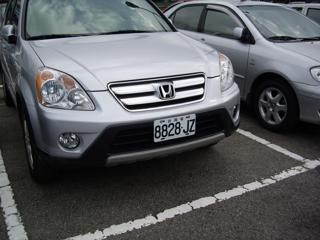plate: (150, 115, 196, 140)
